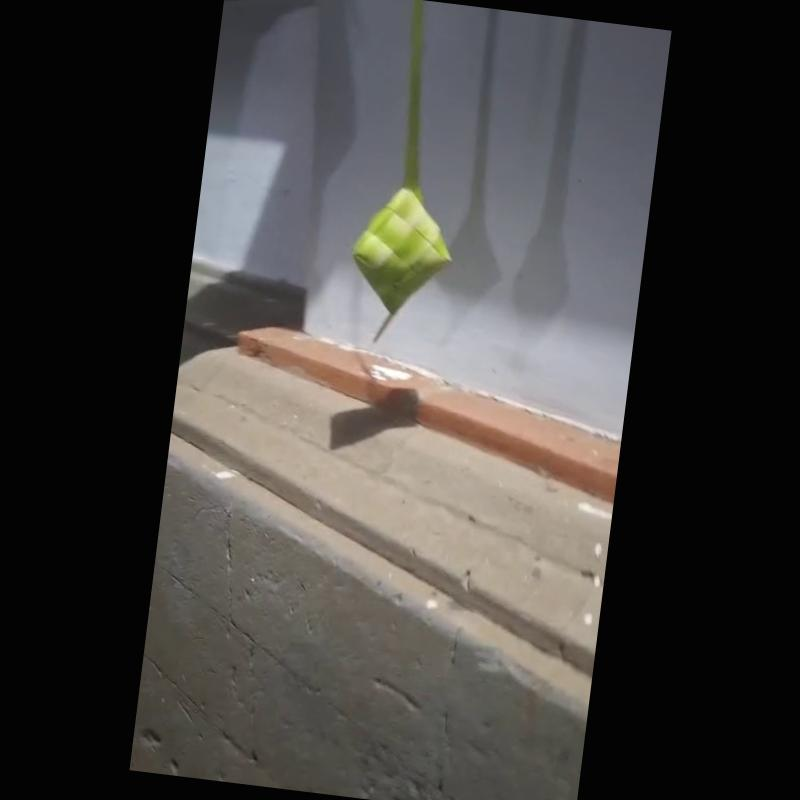Tipat Nasi: (344, 181, 454, 330)
